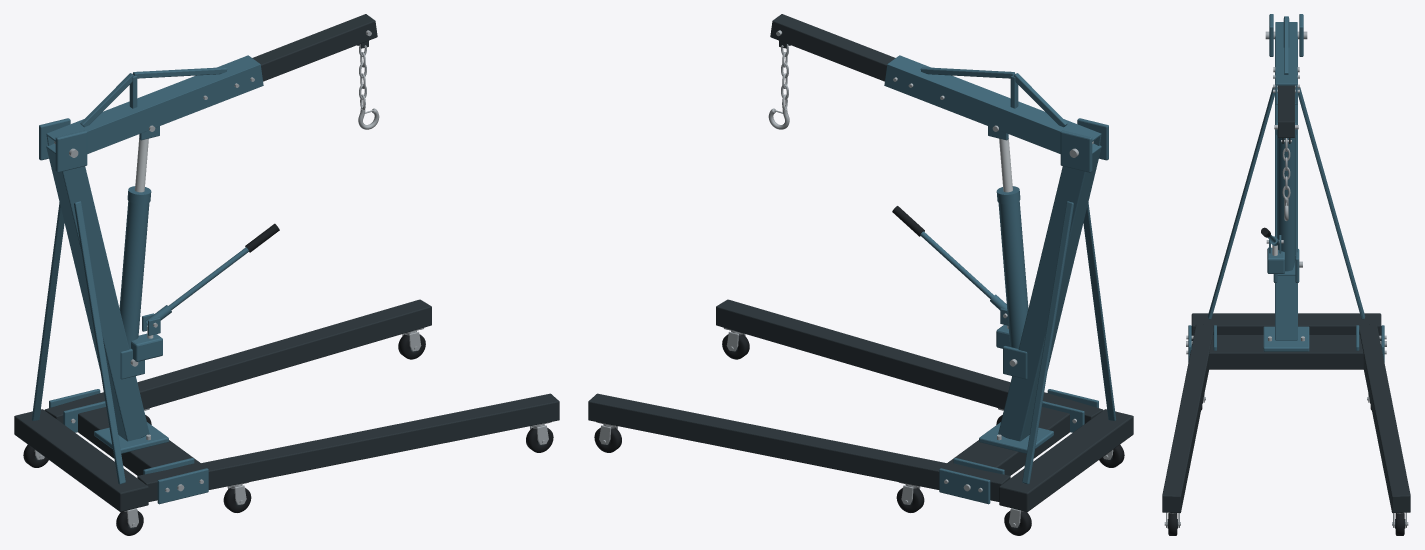
3 views of the same model, side by side, from view 1: azimuth 30°, elevation 25°; view 2: azimuth 150°, elevation 25°; view 3: azimuth 270°, elevation 25° (orthographic). The views are drawn at different scales.
Visible parts, largest first — view 1: Long forward box leg -1, Long forward box leg 1, Inclined single mast, Outer hollow boom sleeve, Rear transverse base, Nested boom extension, Main hydraulic cylinder, Narrow rear mast brace -1, Mast base bridge, Narrow rear mast brace 1, Leg folding cheek (-1, -1), Upper boom pivot cheek -1 (+3 smaller); view 2: Long forward box leg 1, Long forward box leg -1, Inclined single mast, Outer hollow boom sleeve, Rear transverse base, Nested boom extension, Main hydraulic cylinder, Narrow rear mast brace 1, Mast base bridge, Narrow rear mast brace -1, Leg folding cheek (1, 1), Upper boom pivot cheek 1 (+3 smaller); view 3: Mast base bridge, Long forward box leg -1, Long forward box leg 1, Rear transverse base, Inclined single mast, Main hydraulic cylinder, Outer hollow boom sleeve, Narrow rear mast brace -1, Narrow rear mast brace 1, Nested boom extension, Mast bolted foot plate, Pump lower casting.
Boxes of the visible parts, x1,y1,x2,y2 form: Long forward box leg -1: [137, 393, 559, 501]; Long forward box leg 1: [44, 299, 431, 423]; Inclined single mast: [46, 143, 149, 441]; Outer hollow boom sleeve: [46, 55, 263, 153]; Rear transverse base: [14, 409, 148, 511]; Nested boom extension: [252, 14, 377, 81]; Main hydraulic cylinder: [119, 201, 149, 348]; Narrow rear mast brace -1: [74, 201, 125, 484]; Mast base bridge: [78, 407, 200, 475]; Narrow rear mast brace 1: [31, 202, 64, 420]; Leg folding cheek (-1, -1): [157, 468, 208, 504]; Upper boom pivot cheek -1: [55, 130, 87, 172]; Long forward box leg 1: [588, 393, 1010, 501]; Long forward box leg -1: [716, 299, 1103, 423]; Inclined single mast: [998, 143, 1101, 441]; Outer hollow boom sleeve: [884, 55, 1101, 153]; Rear transverse base: [999, 409, 1133, 511]; Nested boom extension: [770, 14, 895, 81]; Main hydraulic cylinder: [998, 201, 1028, 348]; Narrow rear mast brace 1: [1022, 201, 1073, 484]; Mast base bridge: [947, 407, 1069, 475]; Narrow rear mast brace -1: [1083, 202, 1116, 420]; Leg folding cheek (1, 1): [939, 468, 990, 504]; Upper boom pivot cheek 1: [1060, 130, 1092, 172]; Mast base bridge: [1209, 335, 1363, 369]; Long forward box leg -1: [1162, 324, 1213, 512]; Long forward box leg 1: [1359, 324, 1410, 512]; Rear transverse base: [1191, 313, 1381, 340]; Inclined single mast: [1275, 37, 1297, 340]; Main hydraulic cylinder: [1277, 136, 1295, 263]; Outer hollow boom sleeve: [1275, 22, 1297, 104]; Narrow rear mast brace -1: [1207, 87, 1274, 319]; Narrow rear mast brace 1: [1298, 87, 1365, 319]; Nested boom extension: [1278, 85, 1294, 137]; Mast bolted foot plate: [1263, 326, 1309, 351]; Pump lower casting: [1267, 247, 1284, 273].
Size of the model in its own units: 1.69 by 1.51 by 0.9193.
